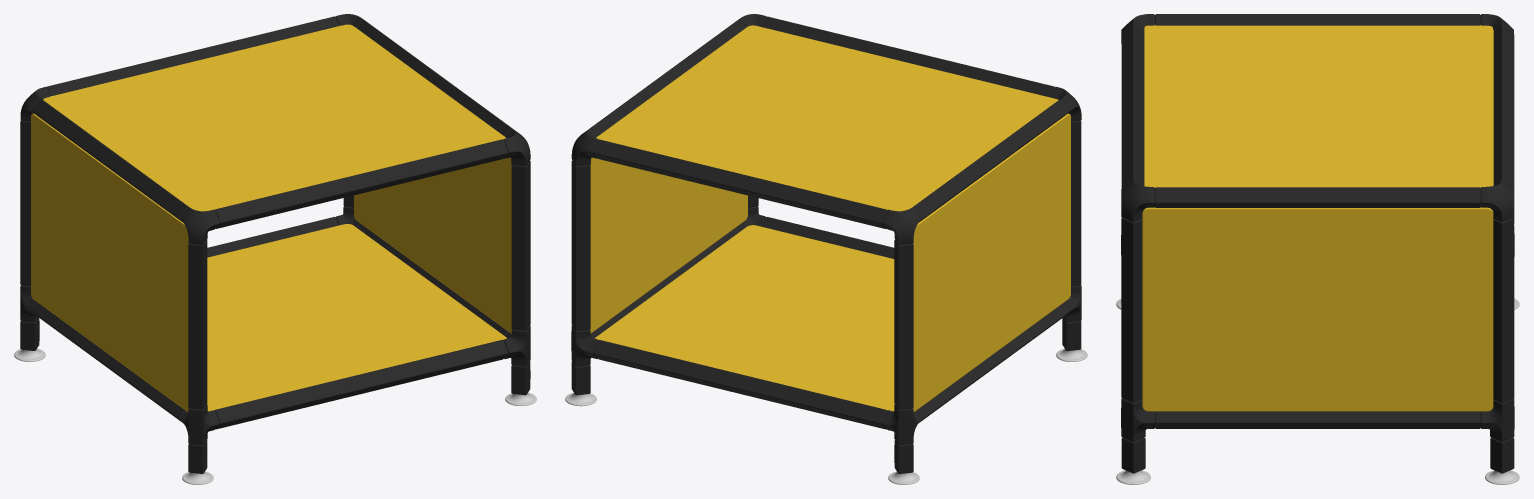
3 renders of one model, left to right at view 1: azimuth 30°, elevation 25°; view 2: azimuth 150°, elevation 25°; view 3: azimuth 270°, elevation 25°, orthographic. The views are drawn at different scales.
Parts seen in each view (by area): view 1: 420x374x229; view 2: 420x374x229; view 3: 420x374x229.
Boxes of the visible parts, <box> form: 420x374x229: <box>14,14,536,484</box>; 420x374x229: <box>565,14,1087,484</box>; 420x374x229: <box>1116,14,1519,484</box>.
Size of the model in its own units: 0.5099 by 0.3683 by 0.4632.
